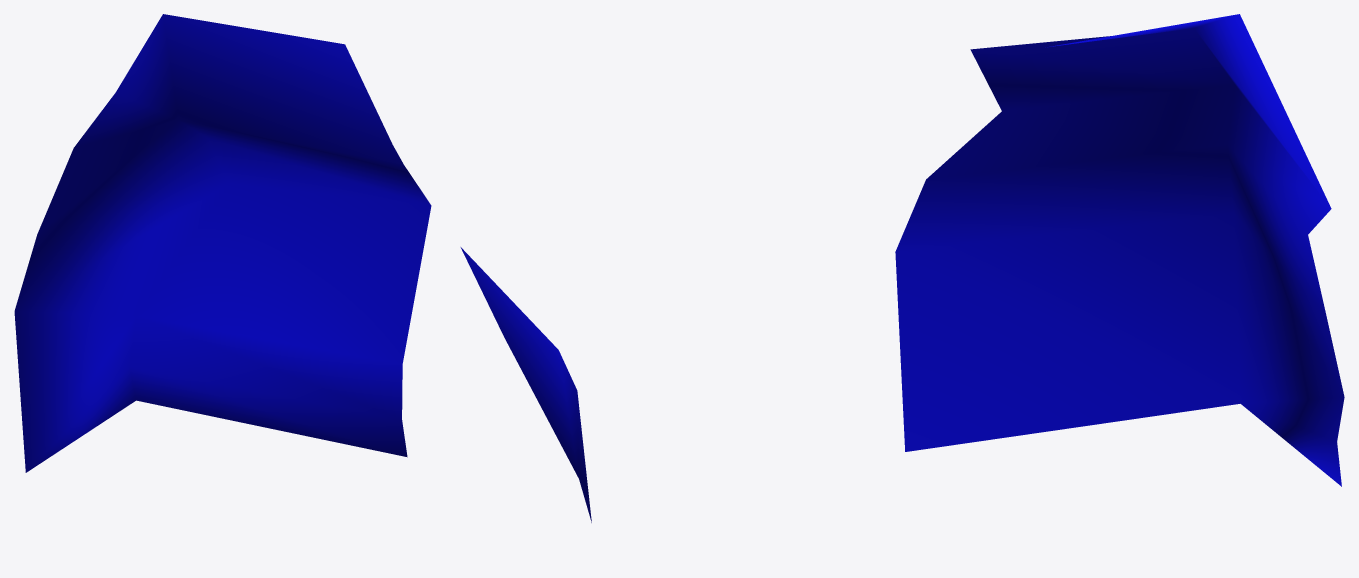
The model's file is WaterfallInsert.glb.
3 views of the same model, side by side, from view 1: azimuth 30°, elevation 25°; view 2: azimuth 150°, elevation 25°; view 3: azimuth 270°, elevation 25° (orthographic). The views are drawn at different scales.
Parts seen in each view (by area): view 1: WaterfallInsert; view 2: WaterfallInsert; view 3: WaterfallInsert.
Boxes of the visible parts, box(x1,y1,x2,y2) form: WaterfallInsert: box(14, 14, 431, 472); WaterfallInsert: box(460, 247, 591, 522); WaterfallInsert: box(895, 14, 1344, 486).
Size of the model in its own units: 3.04 by 3.35 by 2.86.
